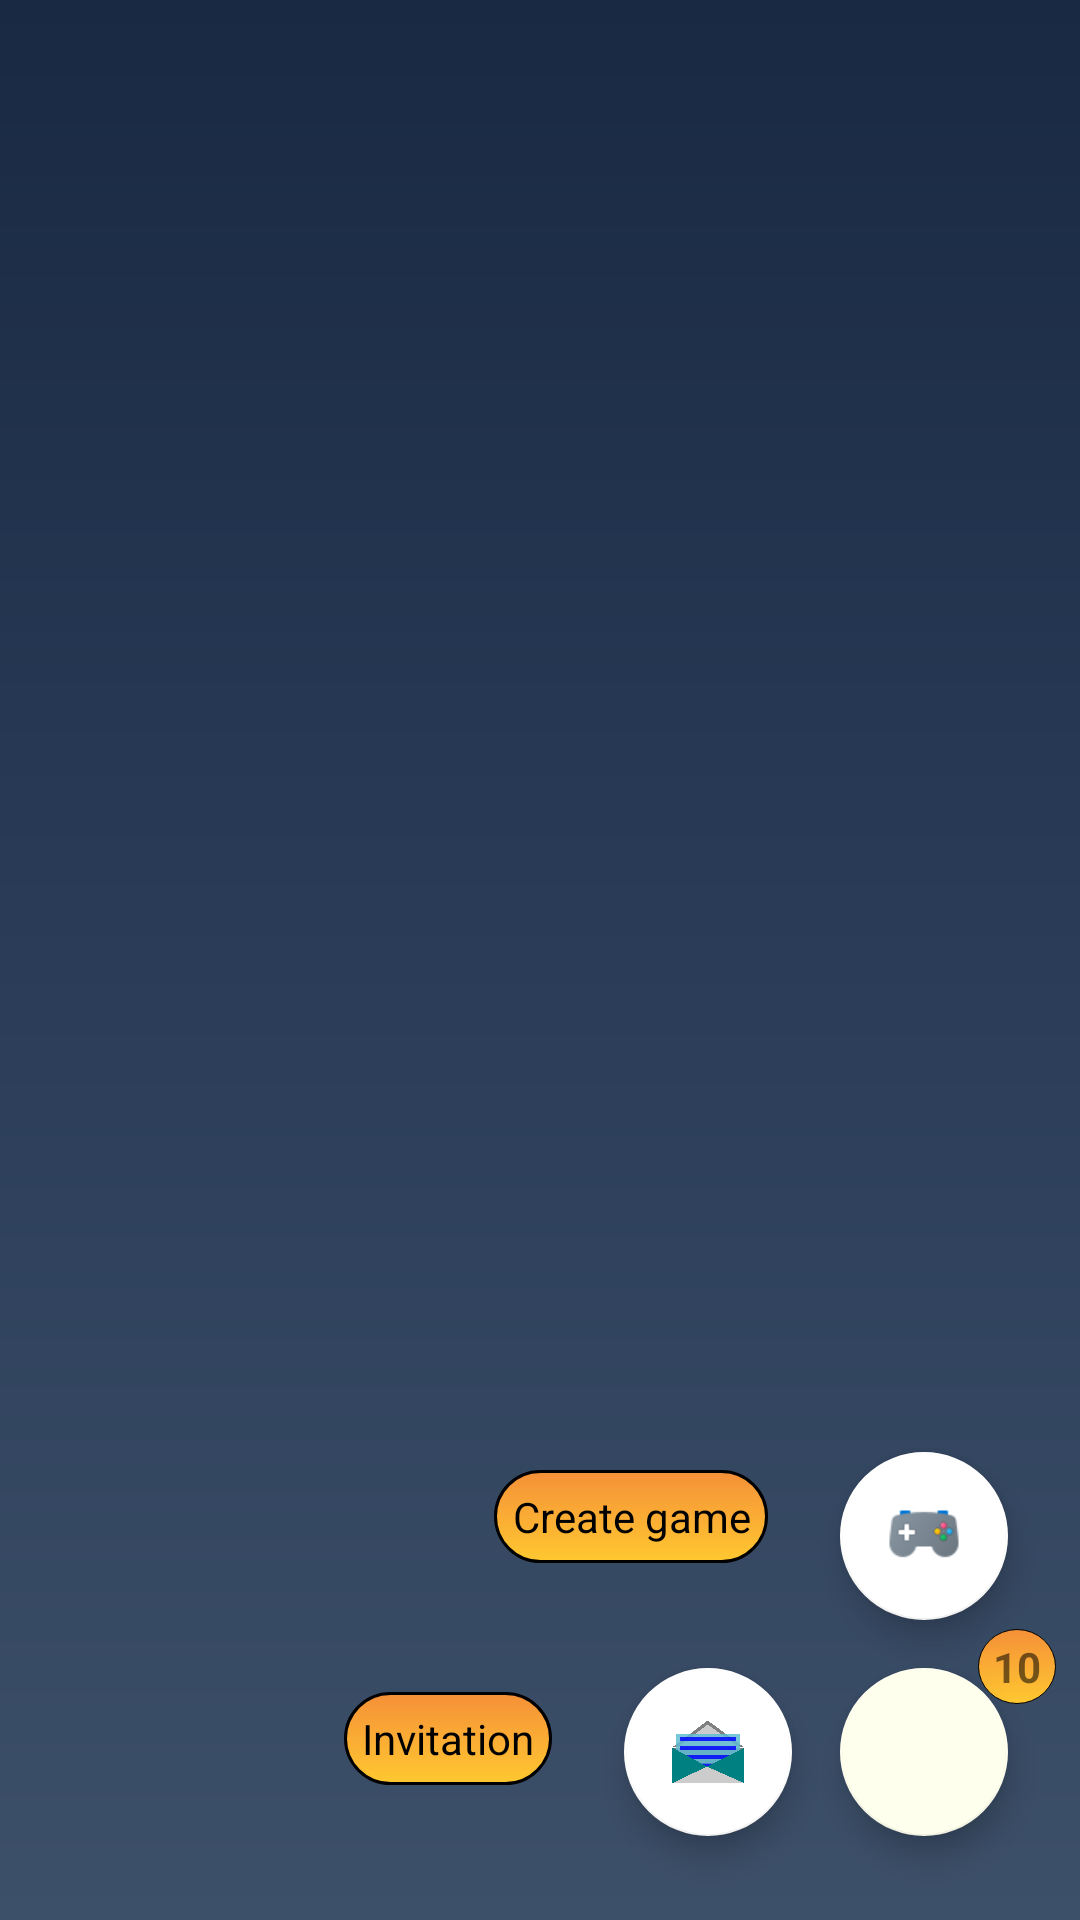

Locate icon controls on the screen. Image size 1080*1920, boxes as (x1,y1,x2,y2).
to invite: (624,1668,792,1836)
